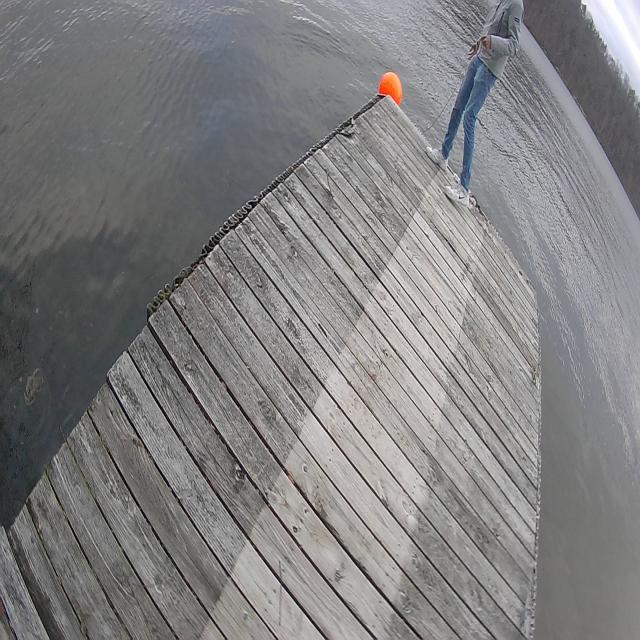Buoy: (376, 63, 406, 114)
